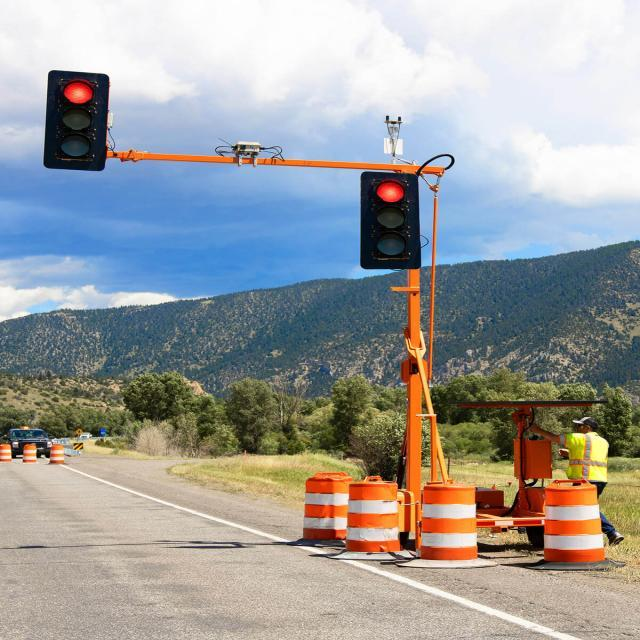suv: (43, 69, 110, 171), (359, 170, 421, 270)
